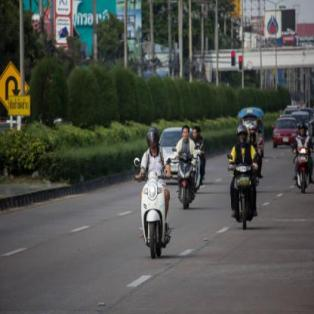Motocicleta: (131, 163, 176, 266), (224, 156, 258, 227), (169, 142, 199, 205), (292, 143, 314, 194)
